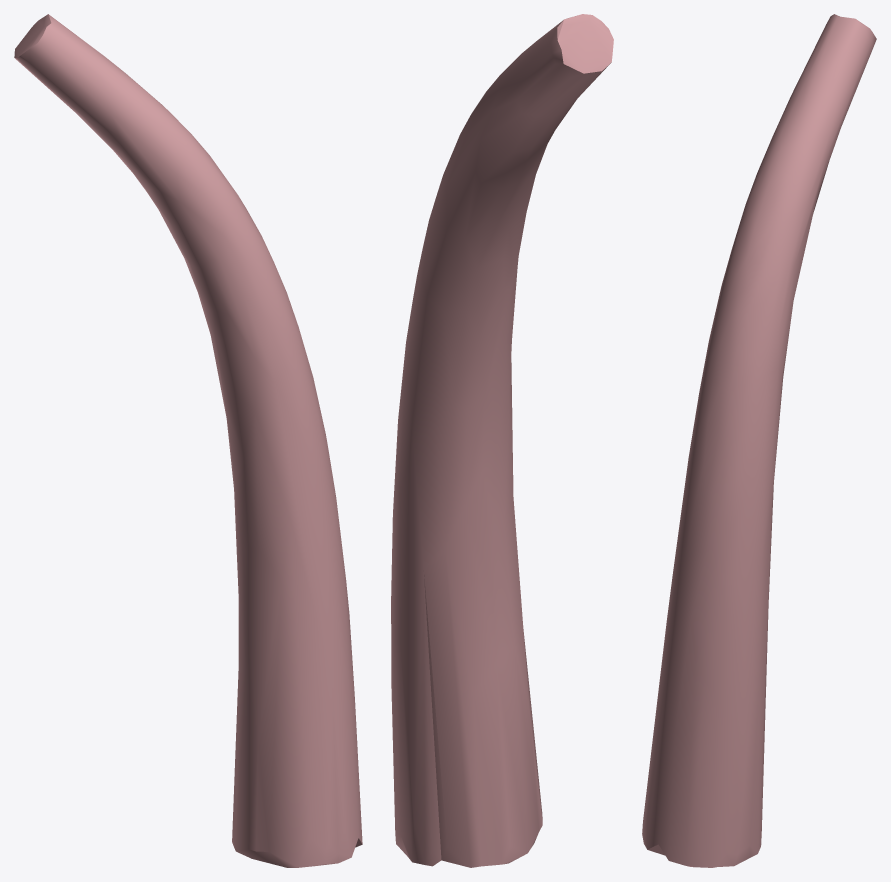
The model's file is fma68211_fj2521.glb.
3 renders of one model, left to right at view 1: azimuth 30°, elevation 25°; view 2: azimuth 150°, elevation 25°; view 3: azimuth 270°, elevation 25°, orthographic. The views are drawn at different scales.
Parts seen in each view (by area): view 1: FMA68211_FJ2521; view 2: FMA68211_FJ2521; view 3: FMA68211_FJ2521.
Boxes of the visible parts, left/top/right/bottom form: FMA68211_FJ2521: left=14, top=14, right=362, bottom=867; FMA68211_FJ2521: left=391, top=14, right=613, bottom=867; FMA68211_FJ2521: left=642, top=14, right=876, bottom=867.
Bounding box in the file's own units: 0.00796 × 0.024 × 0.00679.
